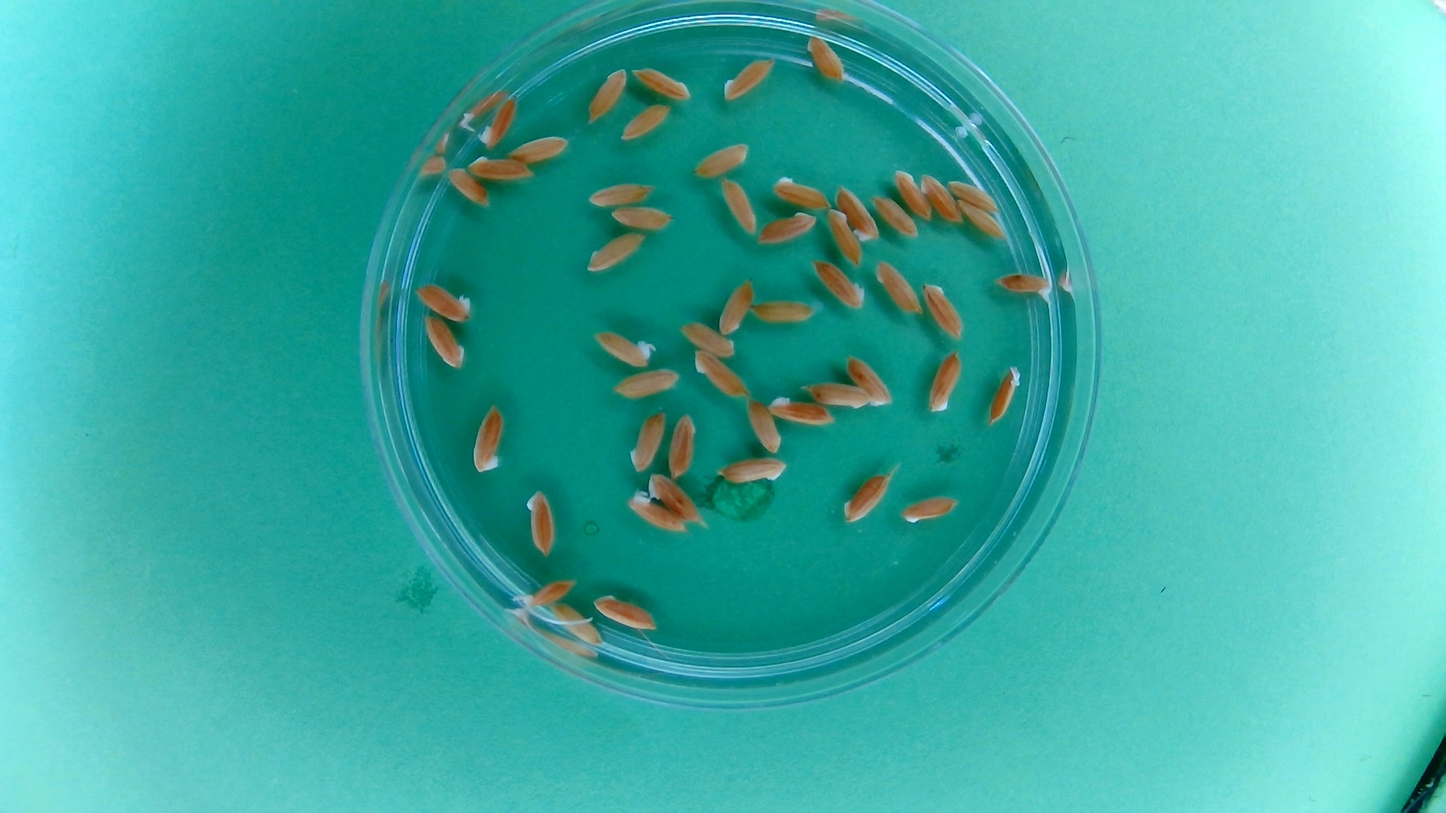no: (645, 470, 704, 524), (840, 467, 894, 525), (810, 256, 868, 310), (691, 347, 751, 399), (624, 489, 689, 536), (469, 400, 508, 476), (844, 352, 895, 409), (874, 257, 923, 316), (419, 311, 467, 371), (584, 229, 648, 274), (834, 180, 880, 242), (920, 279, 966, 341), (591, 591, 660, 632), (411, 279, 474, 323), (627, 407, 669, 473), (925, 346, 965, 415), (721, 54, 777, 103), (585, 65, 629, 126), (545, 601, 602, 648), (523, 486, 559, 559), (765, 392, 836, 429), (718, 175, 760, 237), (677, 318, 740, 358), (610, 366, 684, 400), (803, 30, 848, 85), (477, 92, 520, 149), (870, 191, 920, 240), (824, 206, 863, 268), (891, 167, 934, 223), (715, 455, 790, 487), (631, 64, 694, 102), (756, 209, 819, 247), (691, 140, 752, 179), (954, 197, 1008, 241), (987, 361, 1023, 427), (919, 170, 962, 225), (667, 409, 700, 480), (770, 172, 833, 209), (717, 275, 755, 336), (744, 394, 782, 454), (947, 175, 1002, 216), (619, 102, 673, 143), (584, 179, 657, 209), (505, 132, 572, 164), (802, 379, 873, 409), (445, 164, 491, 210), (898, 493, 962, 526), (463, 152, 533, 182), (750, 296, 818, 325), (609, 204, 676, 231)
yes: (590, 327, 657, 370), (517, 577, 578, 611), (994, 269, 1055, 303)
